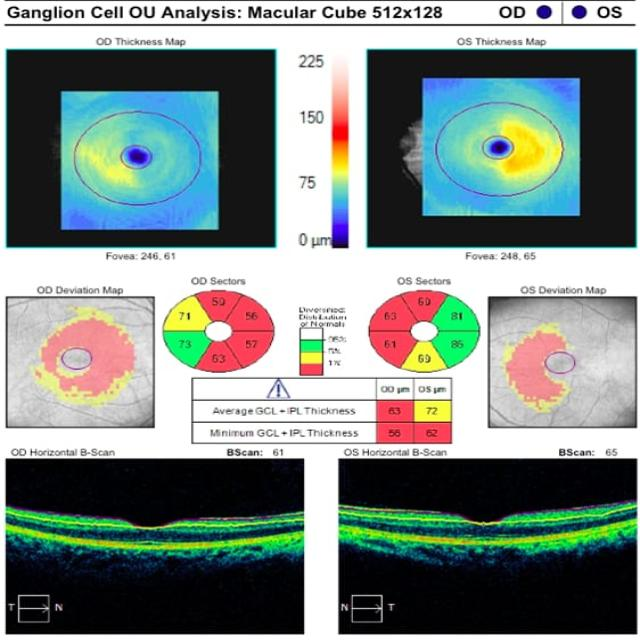average gcl and ipl thickness: (199, 400, 447, 424)
average gcl and ipl thickness-od: (382, 401, 414, 419)
average gcl and ipl thickness-os: (420, 403, 444, 421)
minimum gcl and ipl thickness: (201, 425, 444, 444)
minimum gcl and ipl thickness-od: (383, 427, 412, 442)
minimum gcl and ipl thickness-os: (419, 427, 445, 442)
